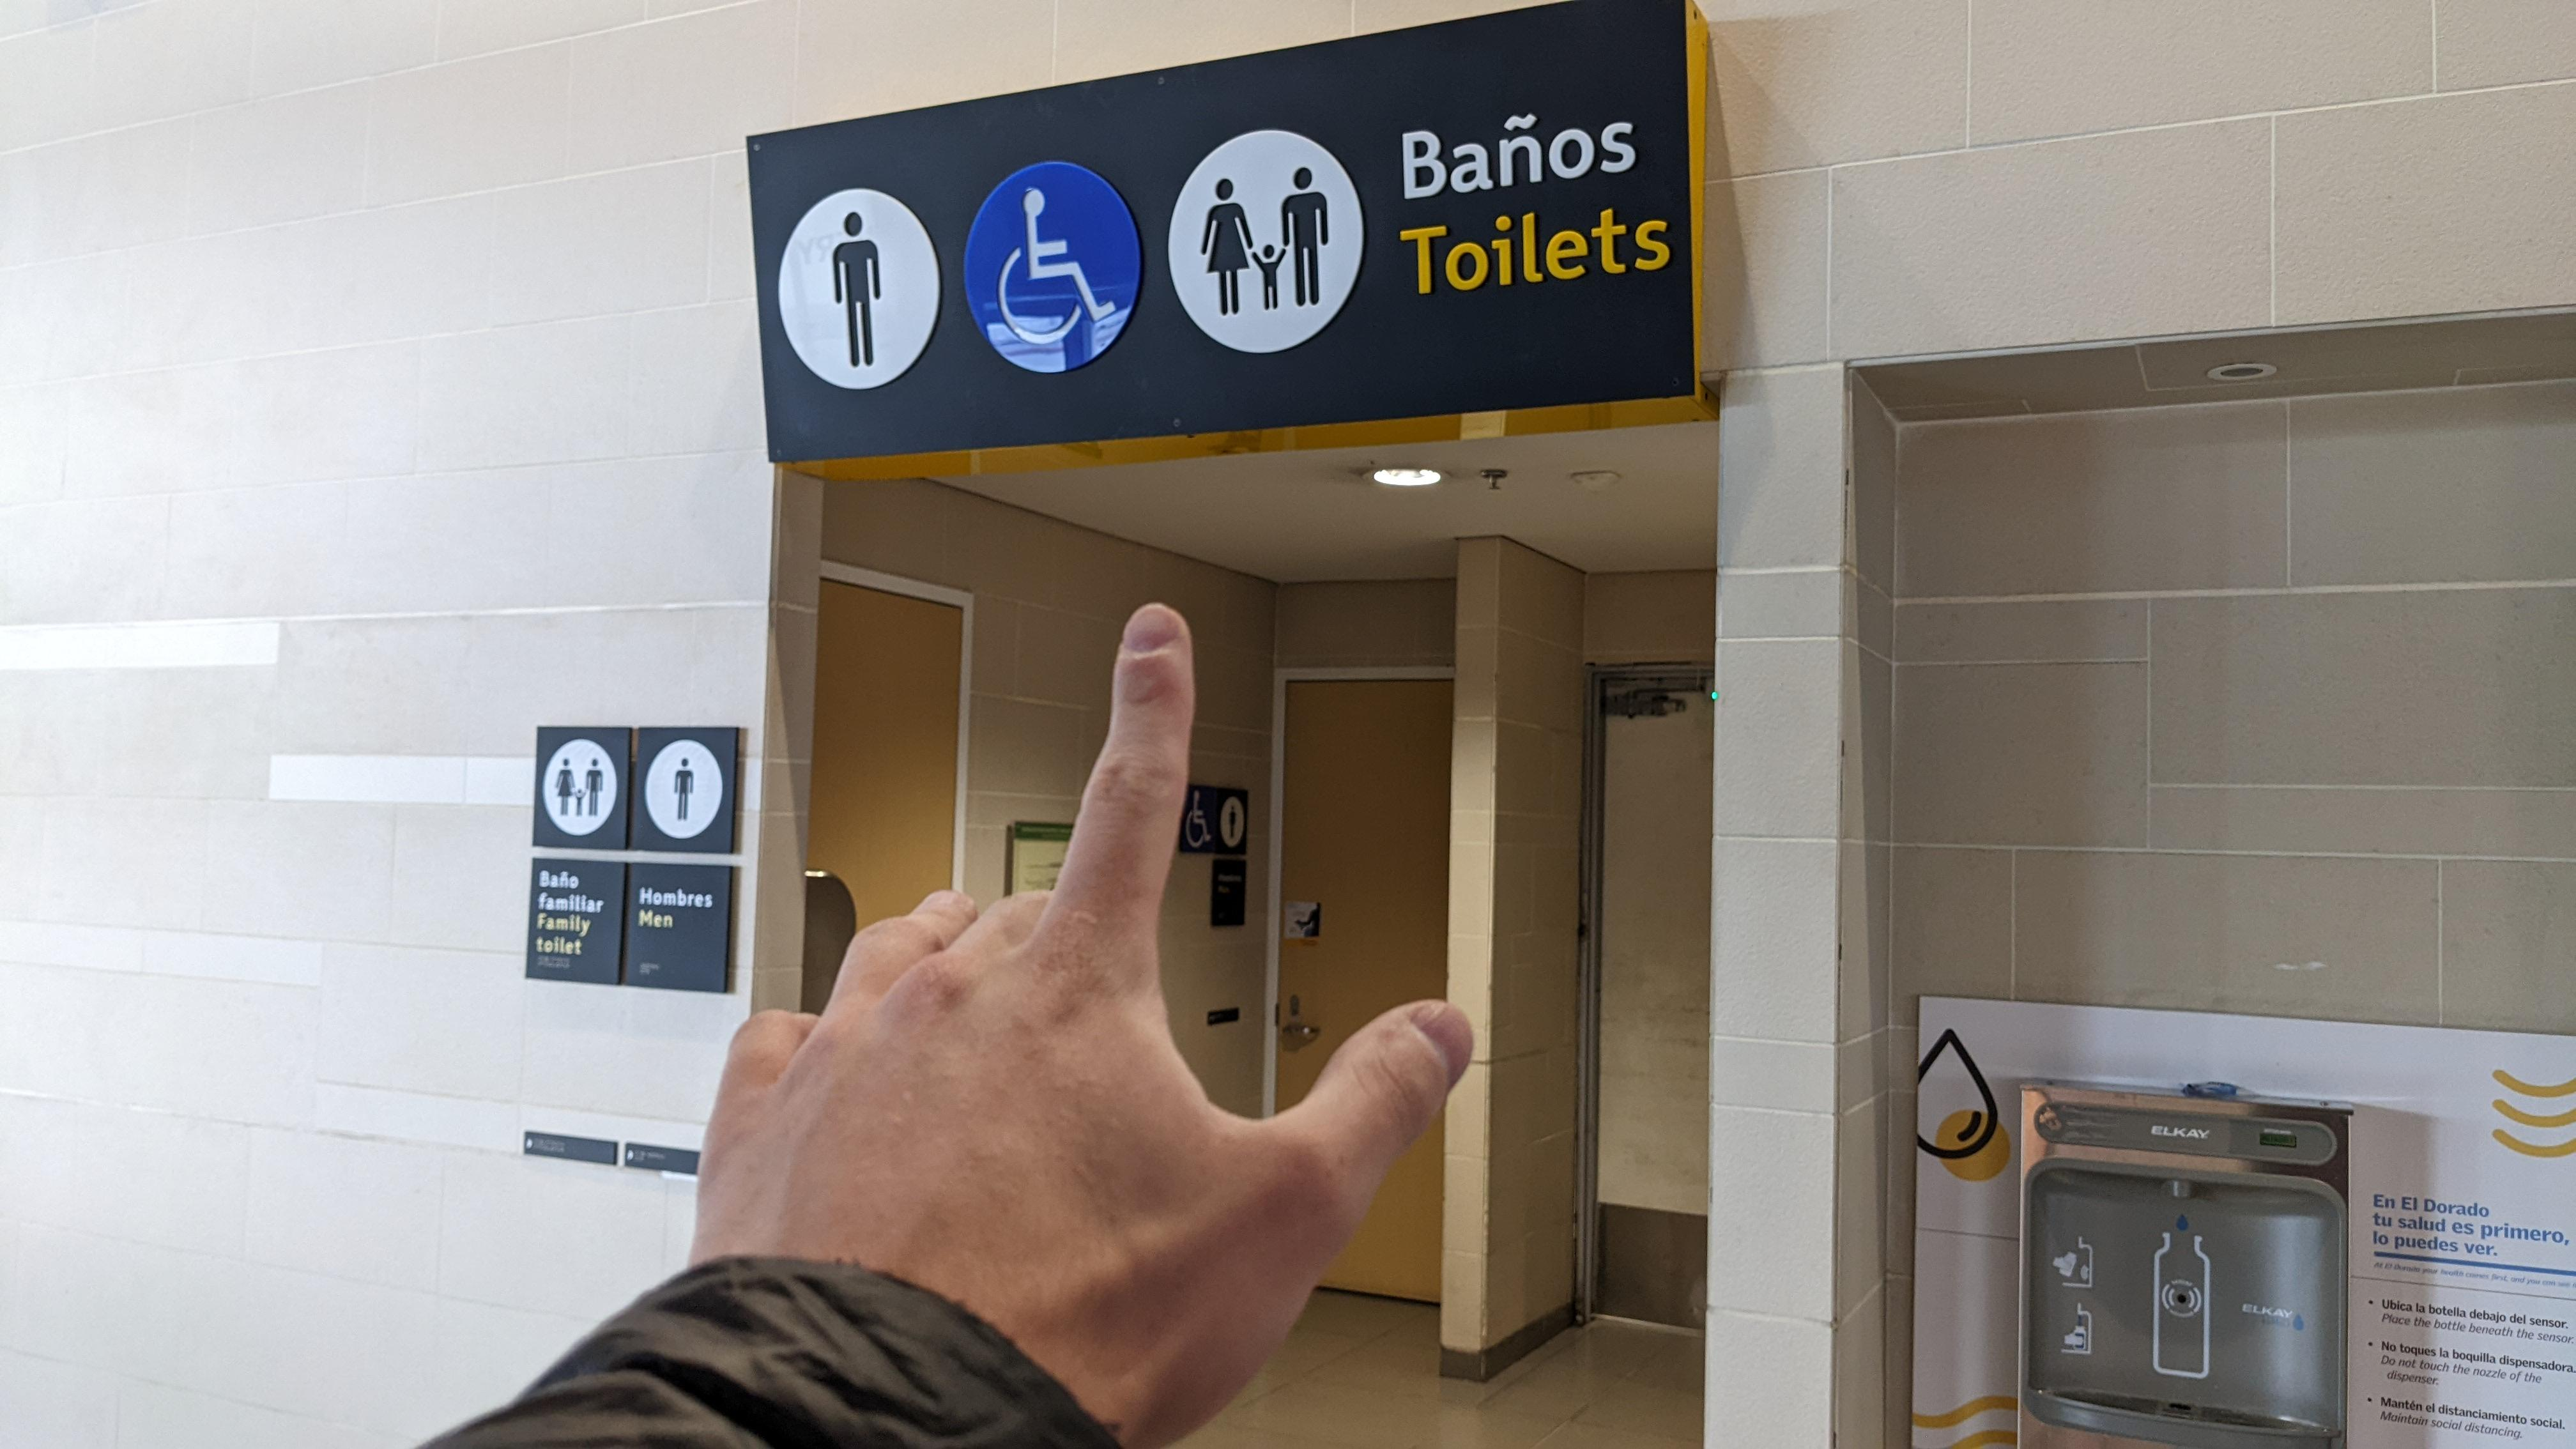handicapped symbol: (996, 188, 1118, 347), (1182, 789, 1214, 849)
